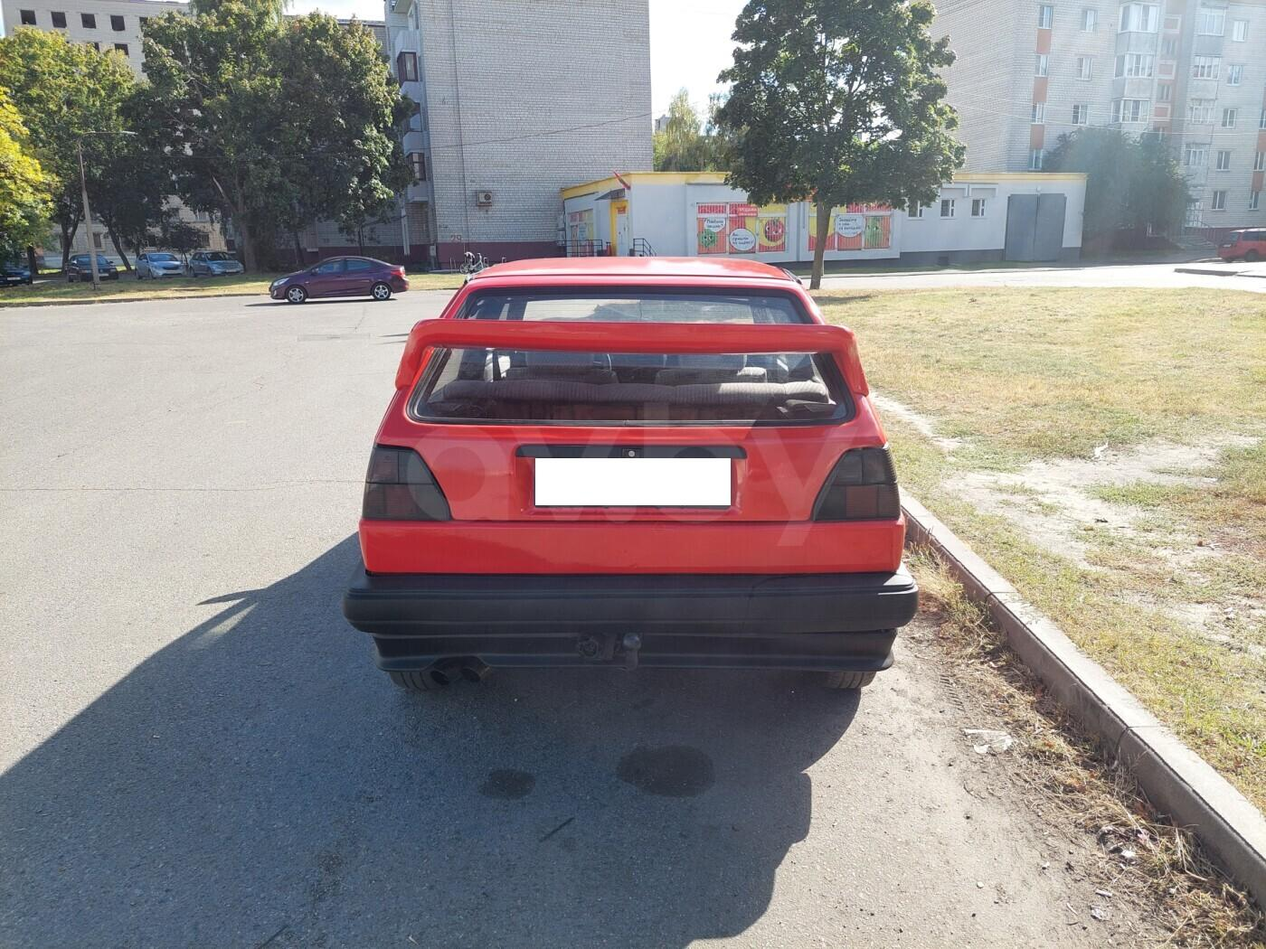Golf_1983-1992: (348, 261, 928, 689)
